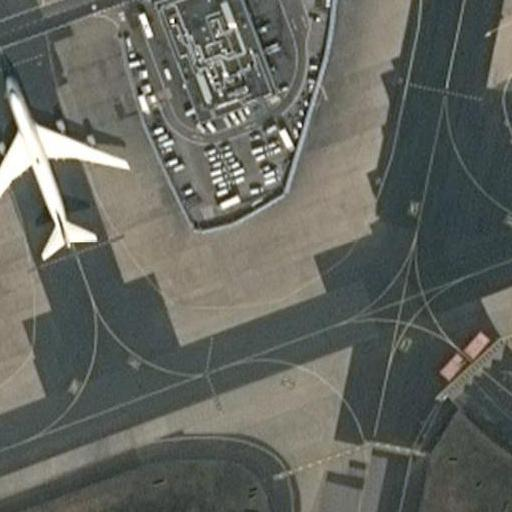Aircraft: (0, 59, 136, 260)
